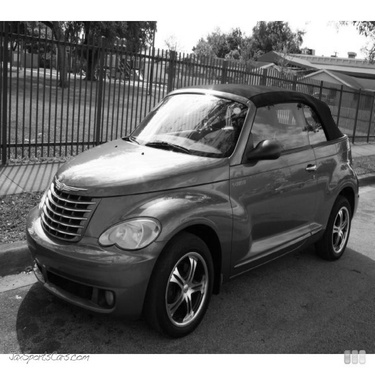car: (20, 74, 363, 338), (116, 65, 145, 82)
